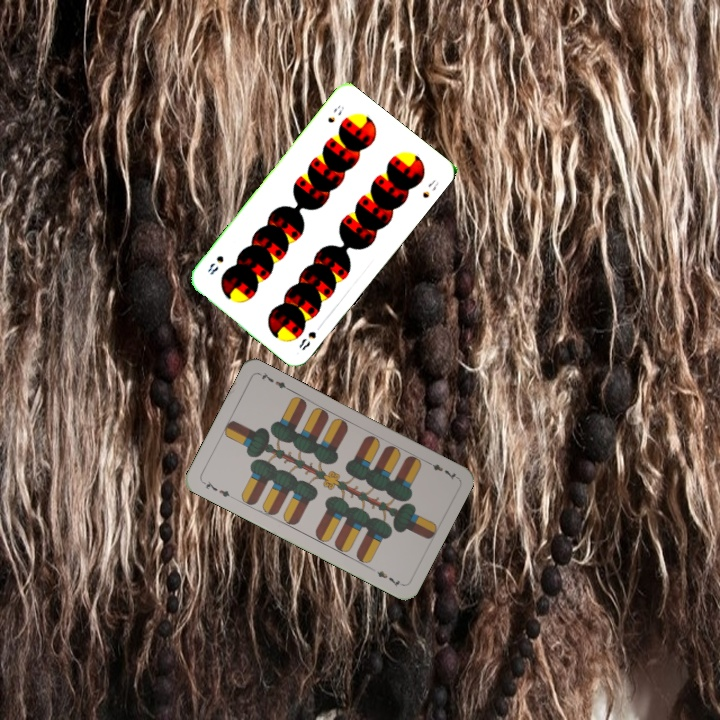E7: (198, 476, 237, 501), (422, 456, 458, 482)
S8: (295, 327, 319, 353), (323, 102, 347, 126)
